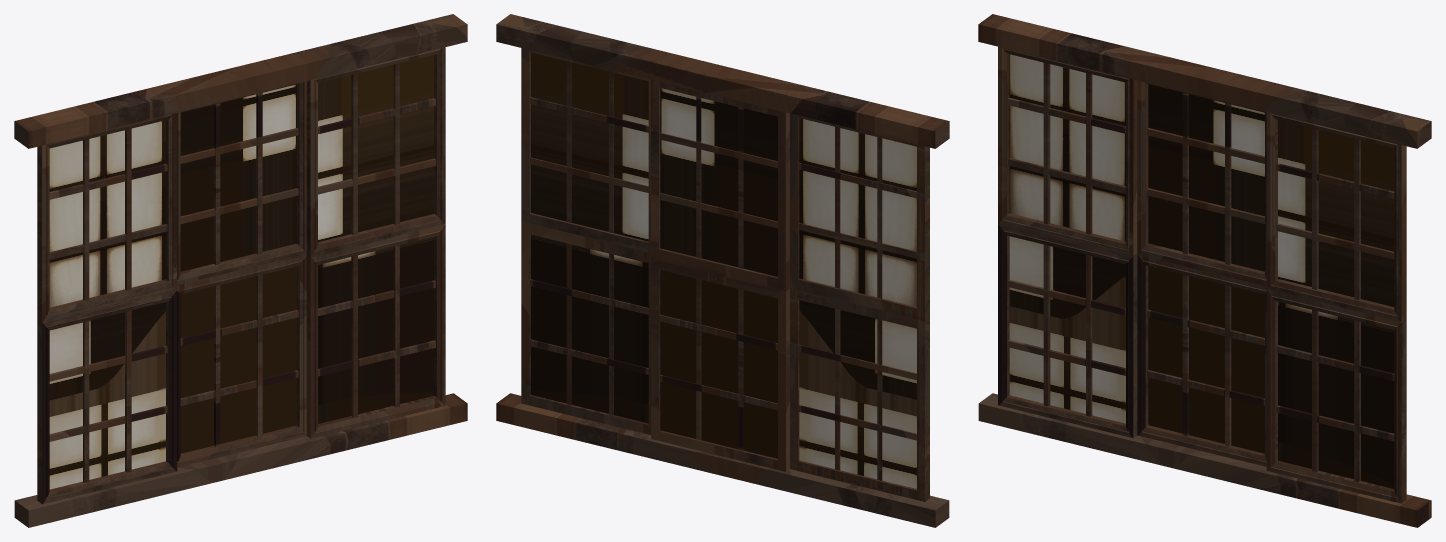
The model's file is Shoji_Window_Large.fbx.
The picture shows the model from 3 angles, left to right: view 1: azimuth 30°, elevation 25°; view 2: azimuth 150°, elevation 25°; view 3: azimuth 330°, elevation 25°; orthographic projection.
Visible parts, largest first — view 1: Window.002; view 2: Window.002; view 3: Window.002.
Part boxes in pixels (x1,y1,x2,y2): Window.002: (14,14,467,527); Window.002: (496,14,949,527); Window.002: (978,14,1431,527).
Size of the model in its own units: 282 by 243 by 15.81.
